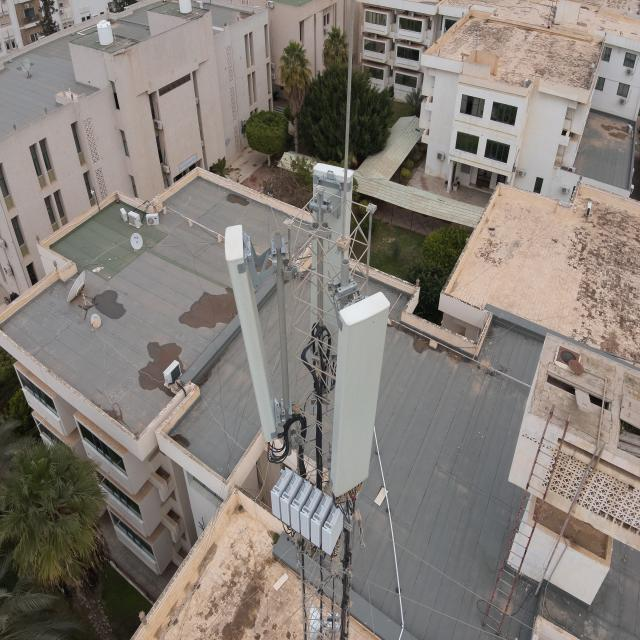antenna: (219, 216, 284, 450), (296, 146, 352, 390), (331, 294, 391, 498)
lighnig-rad: (339, 0, 360, 237)
radio-unit: (267, 466, 351, 556)
